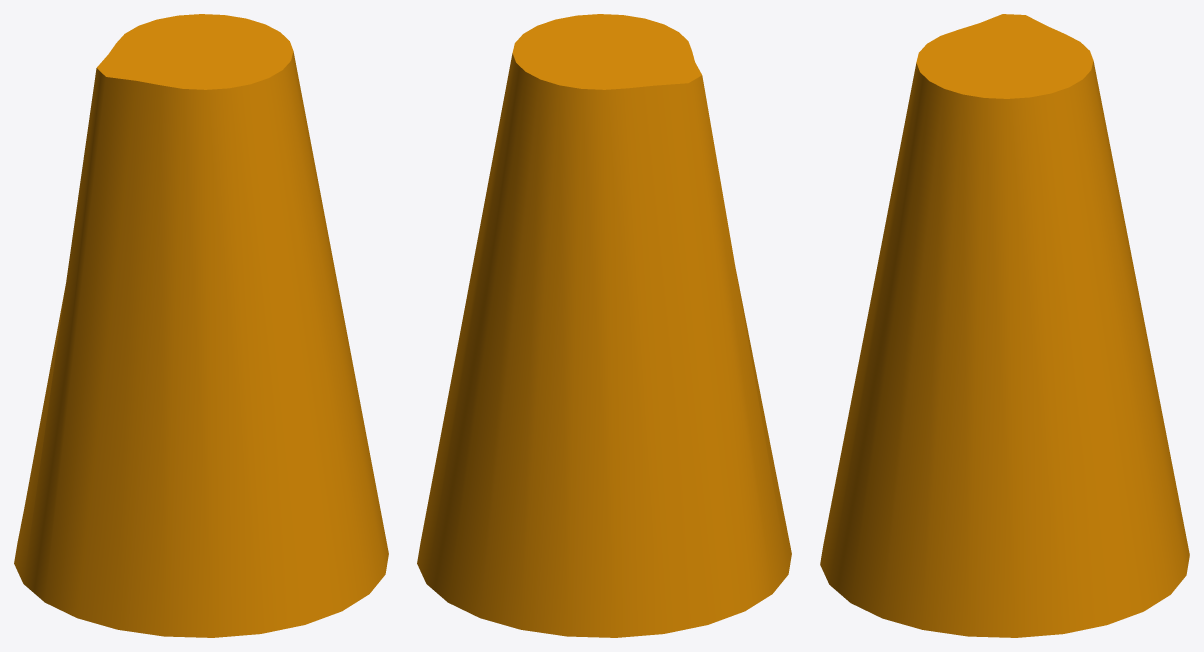
Rendered from GlassJugLargeLiquid.fbx.
The picture shows the model from 3 angles, left to right: view 1: azimuth 30°, elevation 25°; view 2: azimuth 150°, elevation 25°; view 3: azimuth 270°, elevation 25°; orthographic projection.
Visible parts, largest first — view 1: GlassJugLargeLiquid; view 2: GlassJugLargeLiquid; view 3: GlassJugLargeLiquid.
Boxes of the visible parts, <box> form: GlassJugLargeLiquid: <box>14,14,388,637</box>; GlassJugLargeLiquid: <box>417,14,791,637</box>; GlassJugLargeLiquid: <box>820,14,1189,637</box>.
Bounding box in the file's own units: 504 × 751 × 504.
